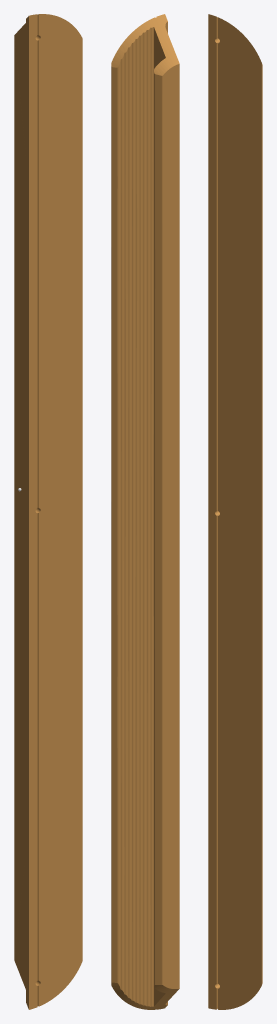
Rendered from swallow pvd gold.glb.
3 views of the same model, side by side, from view 1: azimuth 30°, elevation 25°; view 2: azimuth 210°, elevation 25°; view 3: azimuth 330°, elevation 25° (orthographic).
Parts seen in each view (by area): view 1: CABINET_HANDLE_SWALLOW; view 2: CABINET_HANDLE_SWALLOW; view 3: CABINET_HANDLE_SWALLOW.
Part boxes in pixels (x1=…): CABINET_HANDLE_SWALLOW: x1=14, y1=14, x2=82, y2=1009; CABINET_HANDLE_SWALLOW: x1=111, y1=14, x2=179, y2=1009; CABINET_HANDLE_SWALLOW: x1=208, y1=14, x2=262, y2=1009.
Size of the model in its own units: 0.5618 by 9.61 by 0.335.
